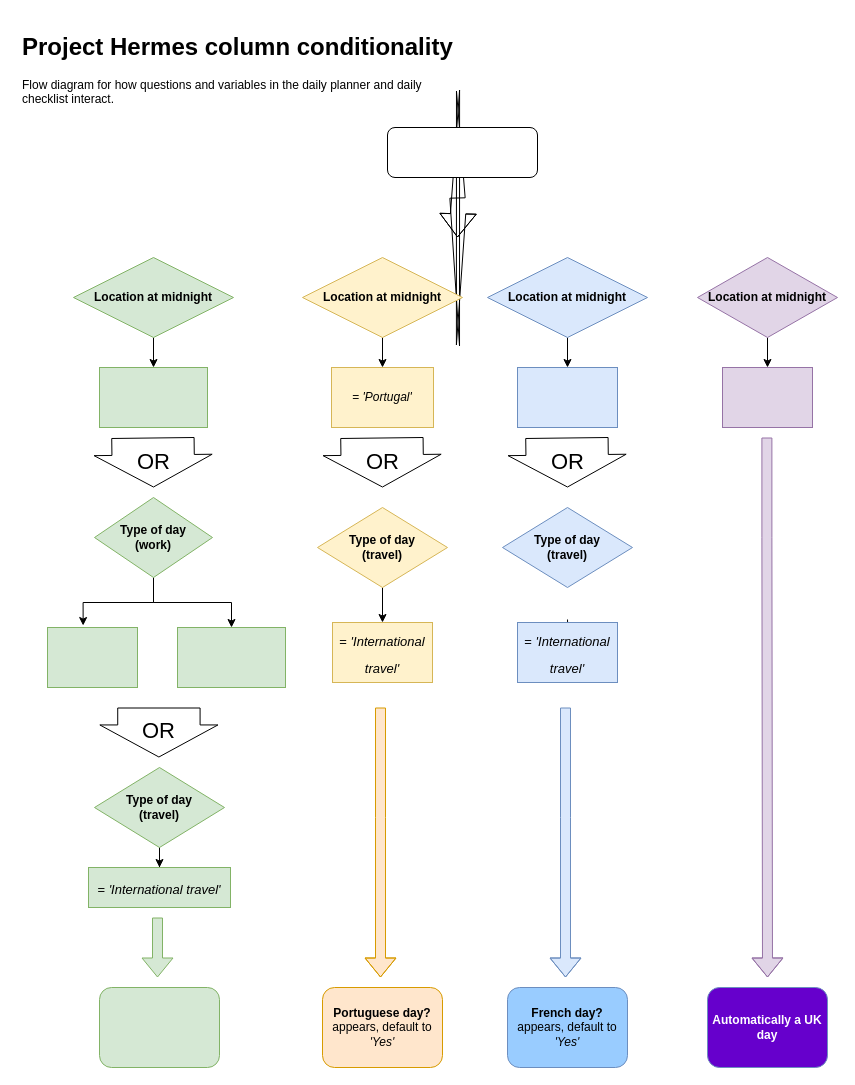
This 855x1085 diagram has some shape labels left out. Here are the shapes that lost their labels. From the top down, the centre of each, then its label:
the point at 462,152: Name and Date fields are pre-filled
the point at 153,397: = 'Singapore'
the point at 567,397: = 'France'
the point at 767,397: = 'UK'
the point at 92,657: = 'UK work day'
the point at 231,657: = 'Work day outside of the UK'
the point at 159,1027: Singapore day? appears, default to 'Yes'
